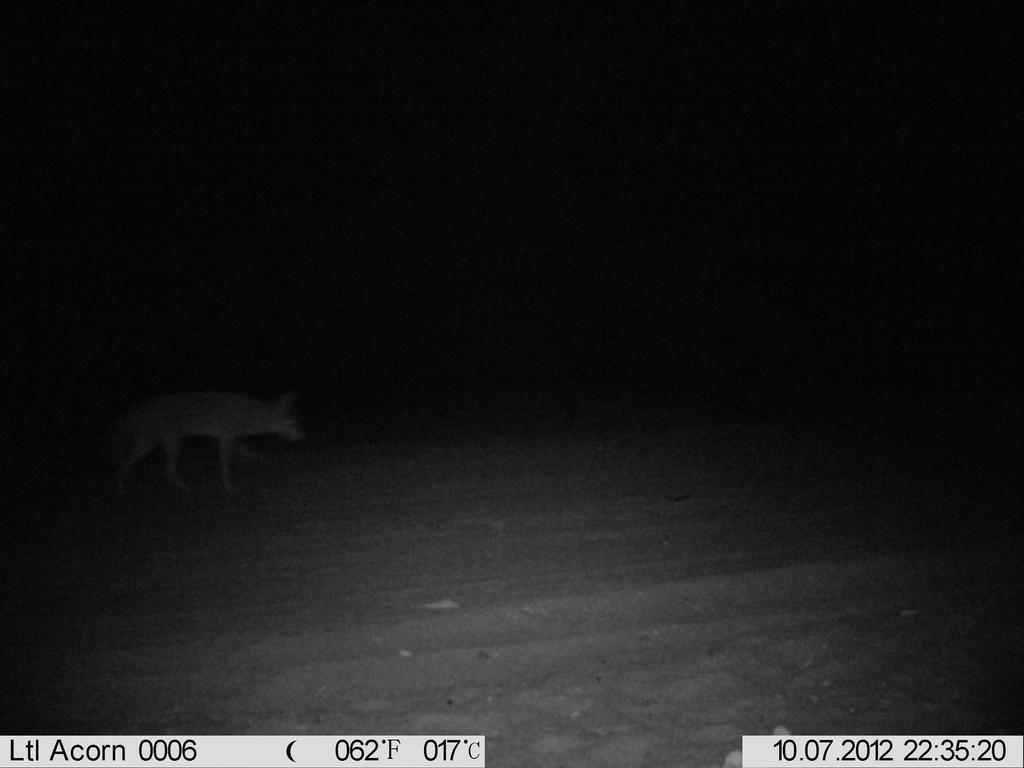coyote: (82, 383, 314, 513)
